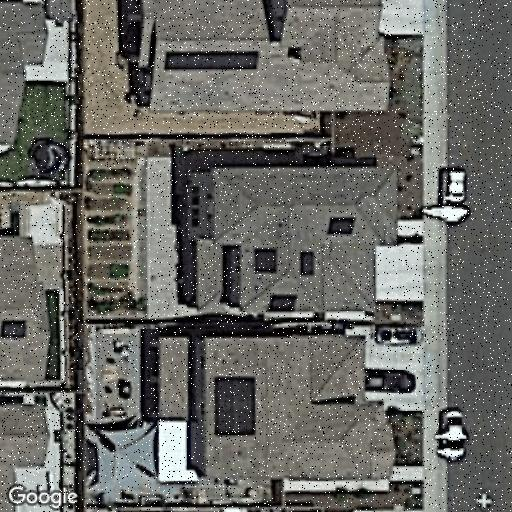solar-panel: (210, 373, 258, 440), (162, 50, 262, 72), (250, 244, 280, 276), (264, 292, 300, 312), (327, 215, 358, 238), (0, 317, 29, 340), (296, 249, 316, 279)
